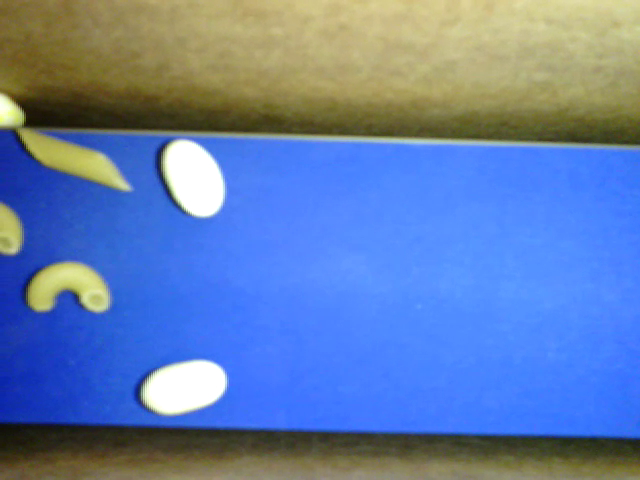elbow: (27, 261, 111, 311), (1, 203, 25, 256)
penne: (17, 128, 132, 191)
